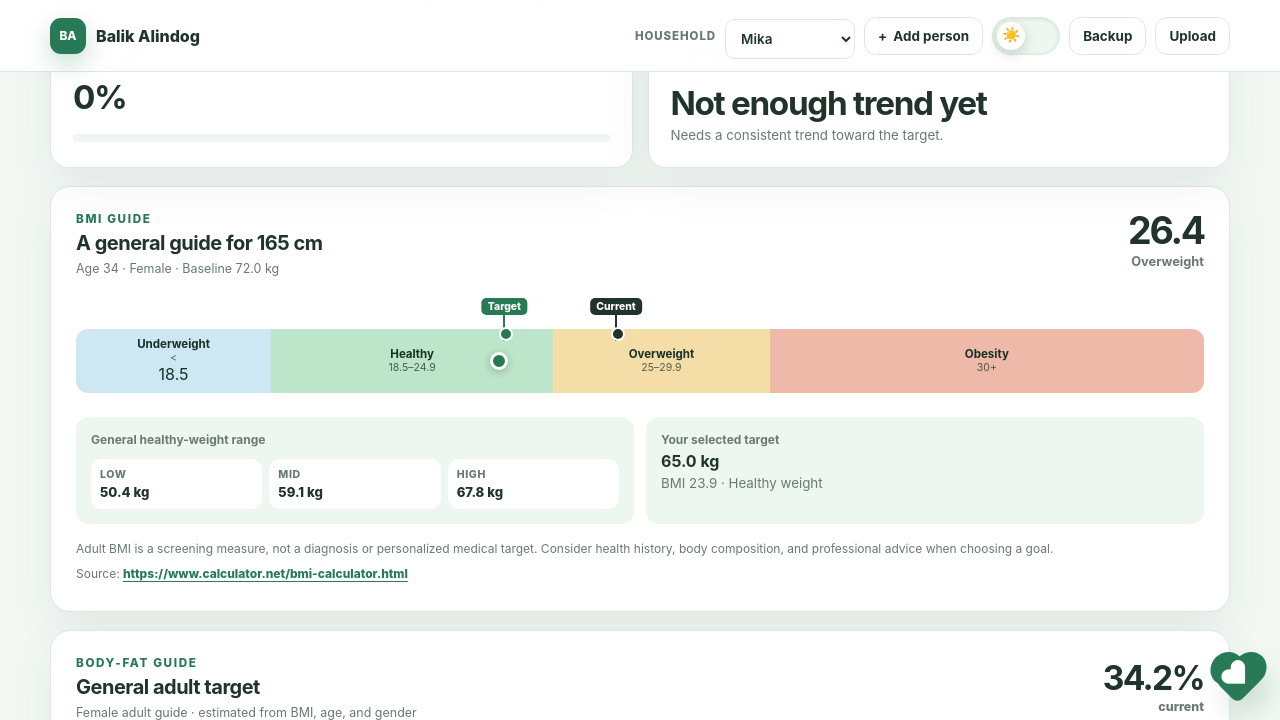
Balik Alindog Tracker › previews and saves a target weight via the BMI draggable slider
(page scrolled)
Expected: the button "save target" is not shown
Set the slider named "target bmi" to "23.5" at (484, 361), box [271,329,549,393]
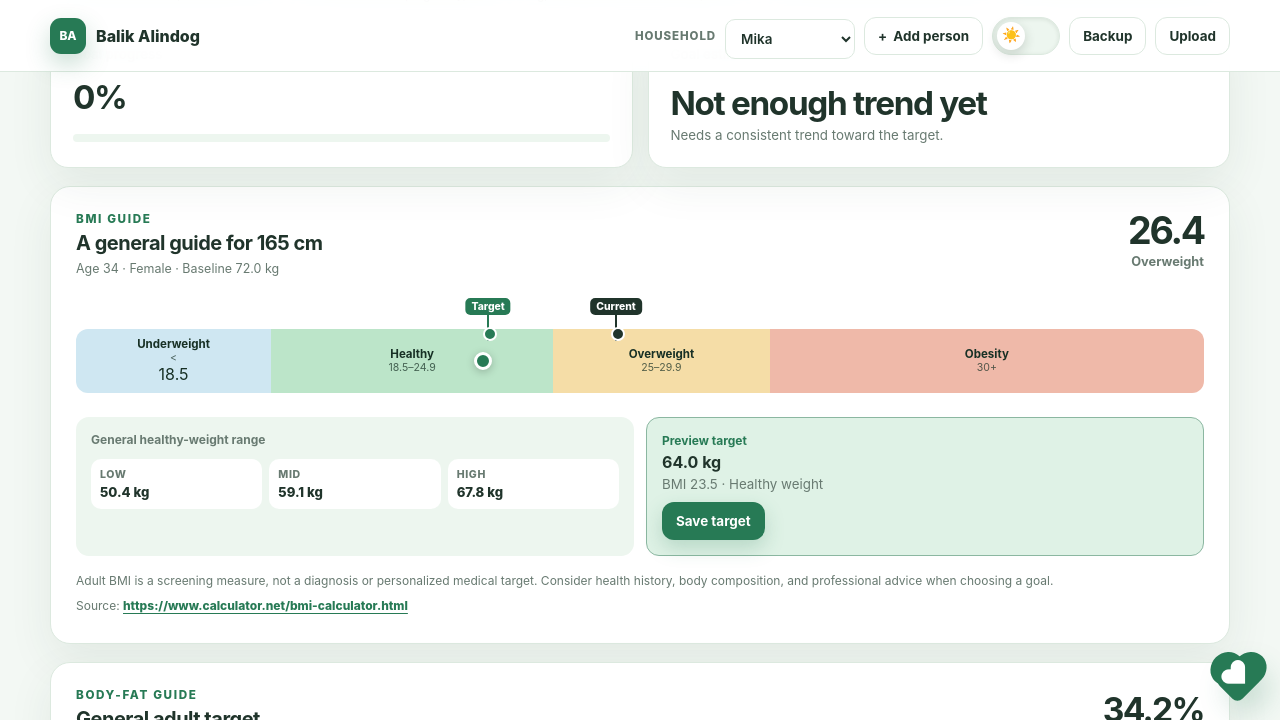
Now the button "Save target" is shown
Now the text "Preview target" is shown, box [662,433,747,448]
Click the button "Save target" at (713, 521), box [662,502,765,540]
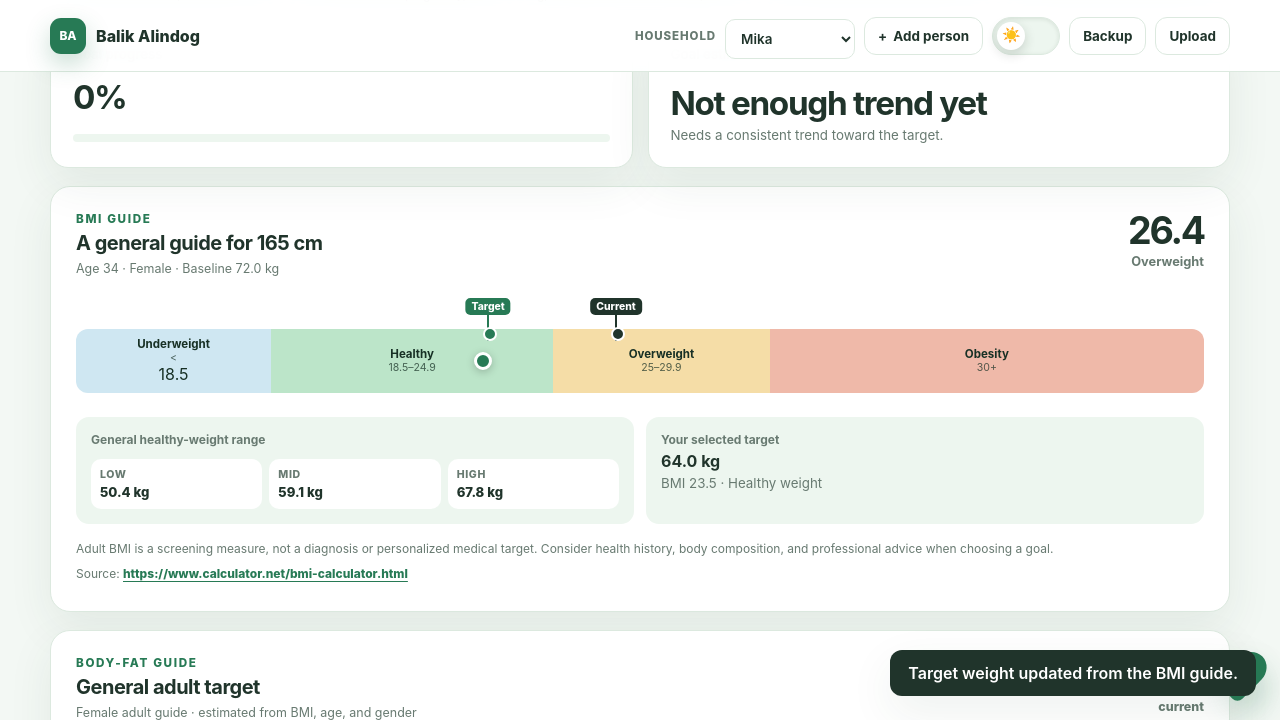
Now the text "Target weight updated from the BMI guide." is shown, box [890,650,1256,696]
Now the text "Your selected target" is shown, box [661,432,779,447]
Now the button "Save target" is gone
